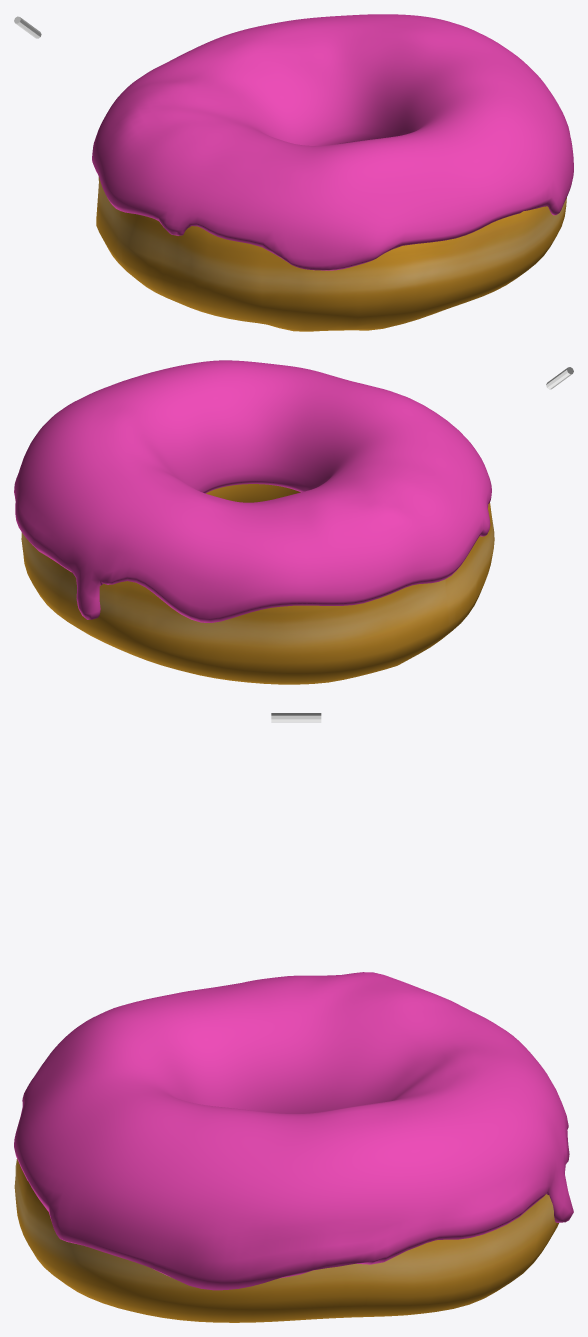
The model's file is Donut.glb.
3 views of the same model, one above another, from view 1: azimuth 30°, elevation 25°; view 2: azimuth 150°, elevation 25°; view 3: azimuth 270°, elevation 25° (orthographic). The views are drawn at different scales.
Parts seen in each view (by area): view 1: Icing, Donut; view 2: Icing, Donut; view 3: Icing, Donut.
Part boxes in pixels (x1,y1,x2,y2): Icing: (92, 14, 573, 270); Donut: (96, 177, 566, 331); Icing: (14, 360, 491, 622); Donut: (21, 484, 494, 684); Icing: (14, 972, 573, 1290); Donut: (14, 1159, 558, 1322).
Size of what is drawn, in the model's own units: 1.49 by 0.8681 by 1.16.
Materials: 2 (1 with a texture image).
